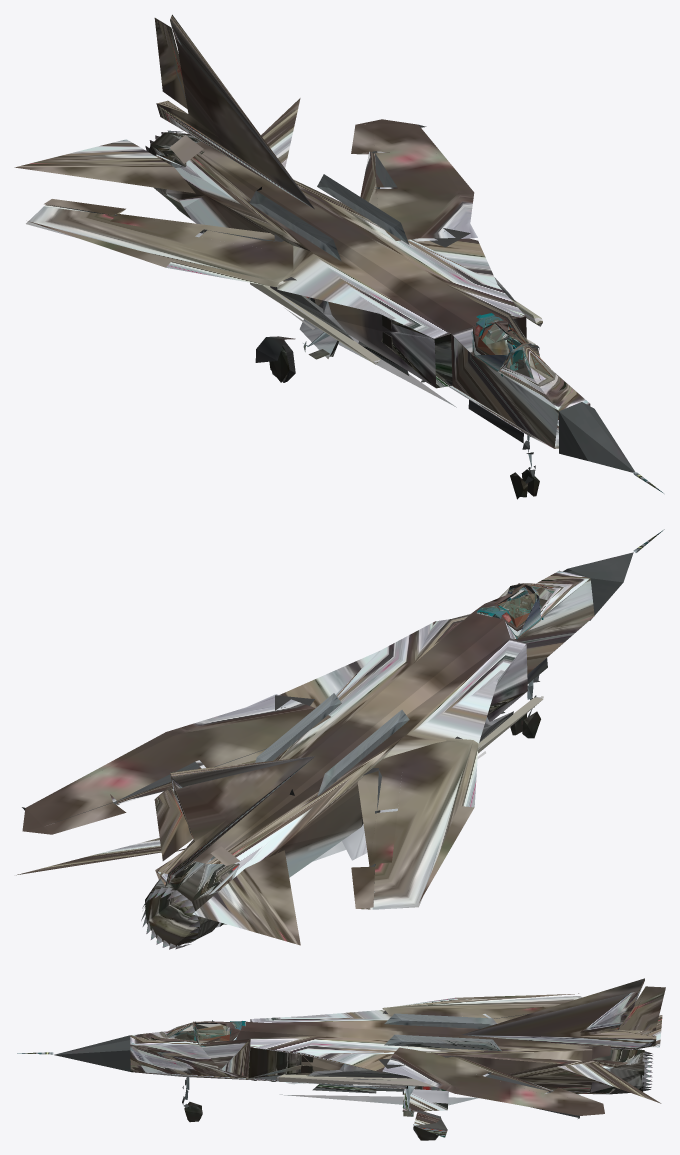
3 renders of one model, top to bottom at view 1: azimuth 30°, elevation 25°; view 2: azimuth 150°, elevation 25°; view 3: azimuth 270°, elevation 25°, orthographic. The views are drawn at different scales.
Parts seen in each view (by area): view 1: OBJ0050_fuzcamo_0, OBJ0040_nab_0, stab2_00Bnosser.paa_0, r24_r24_0, OBJ0377_glass_0; view 2: OBJ0050_fuzcamo_0, OBJ0040_nab_0, stab2_00Bnosser.paa_0, OBJ0377_glass_0, r24_r24_0; view 3: OBJ0050_fuzcamo_0, OBJ0040_nab_0, stab2_00Bnosser.paa_0, r24_r24_0, OBJ0377_glass_0.
Boxes of the visible parts, box(x1,y1,x2,y2) form: OBJ0050_fuzcamo_0: box(14, 14, 590, 448); OBJ0040_nab_0: box(145, 30, 663, 499); stab2_00Bnosser.paa_0: box(50, 151, 634, 472); r24_r24_0: box(250, 282, 542, 364); OBJ0377_glass_0: box(478, 323, 551, 378); OBJ0050_fuzcamo_0: box(16, 570, 594, 945); OBJ0040_nab_0: box(141, 529, 664, 949); stab2_00Bnosser.paa_0: box(55, 552, 633, 891); OBJ0377_glass_0: box(498, 585, 554, 626); r24_r24_0: box(477, 696, 543, 758); OBJ0050_fuzcamo_0: box(130, 978, 665, 1125); OBJ0040_nab_0: box(17, 1002, 652, 1140); stab2_00Bnosser.paa_0: box(54, 1014, 552, 1092); r24_r24_0: box(276, 1074, 435, 1086); OBJ0377_glass_0: box(168, 1021, 229, 1040).
Size of the model in its own units: 1.94 by 1.05 by 4.3.
34 materials, 27 textured.
